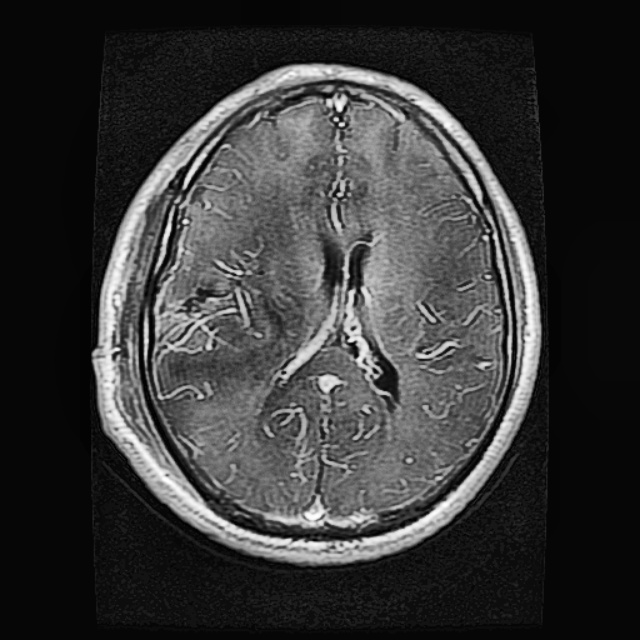Pituitary: (154, 255, 260, 354)
